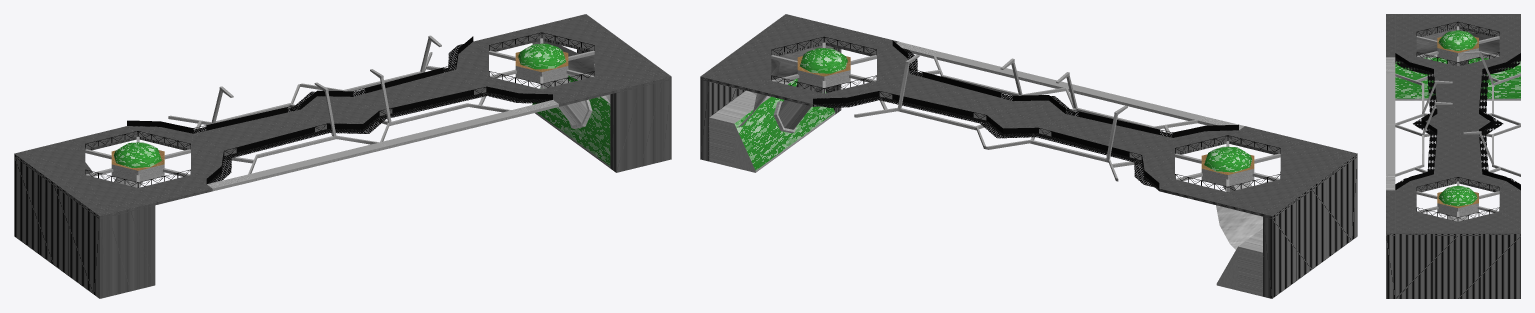
The model's file is FootBridge2.fbx.
The picture shows the model from 3 angles, left to right: view 1: azimuth 30°, elevation 25°; view 2: azimuth 150°, elevation 25°; view 3: azimuth 270°, elevation 25°; orthographic projection. The views are drawn at different scales.
Parts seen in each view (by area): view 1: footbridge2; view 2: footbridge2; view 3: footbridge2.
Part boxes in pixels (bbox=[...]): footbridge2: bbox=[14, 14, 671, 298]; footbridge2: bbox=[700, 14, 1357, 298]; footbridge2: bbox=[1386, 14, 1520, 298].
Bounding box in the file's own units: 2167 × 448 × 561.
